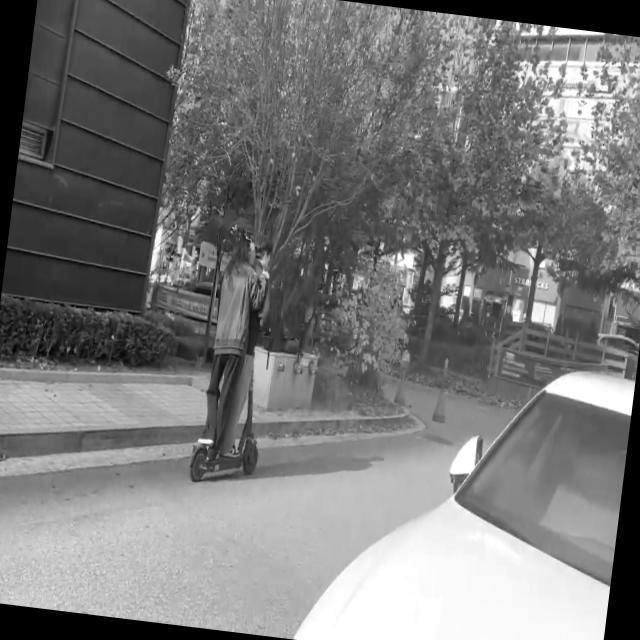bare_head: (244, 235, 279, 272), (222, 239, 256, 269)
human: (193, 239, 256, 457), (216, 234, 276, 455)
kickboard: (180, 436, 270, 482)
